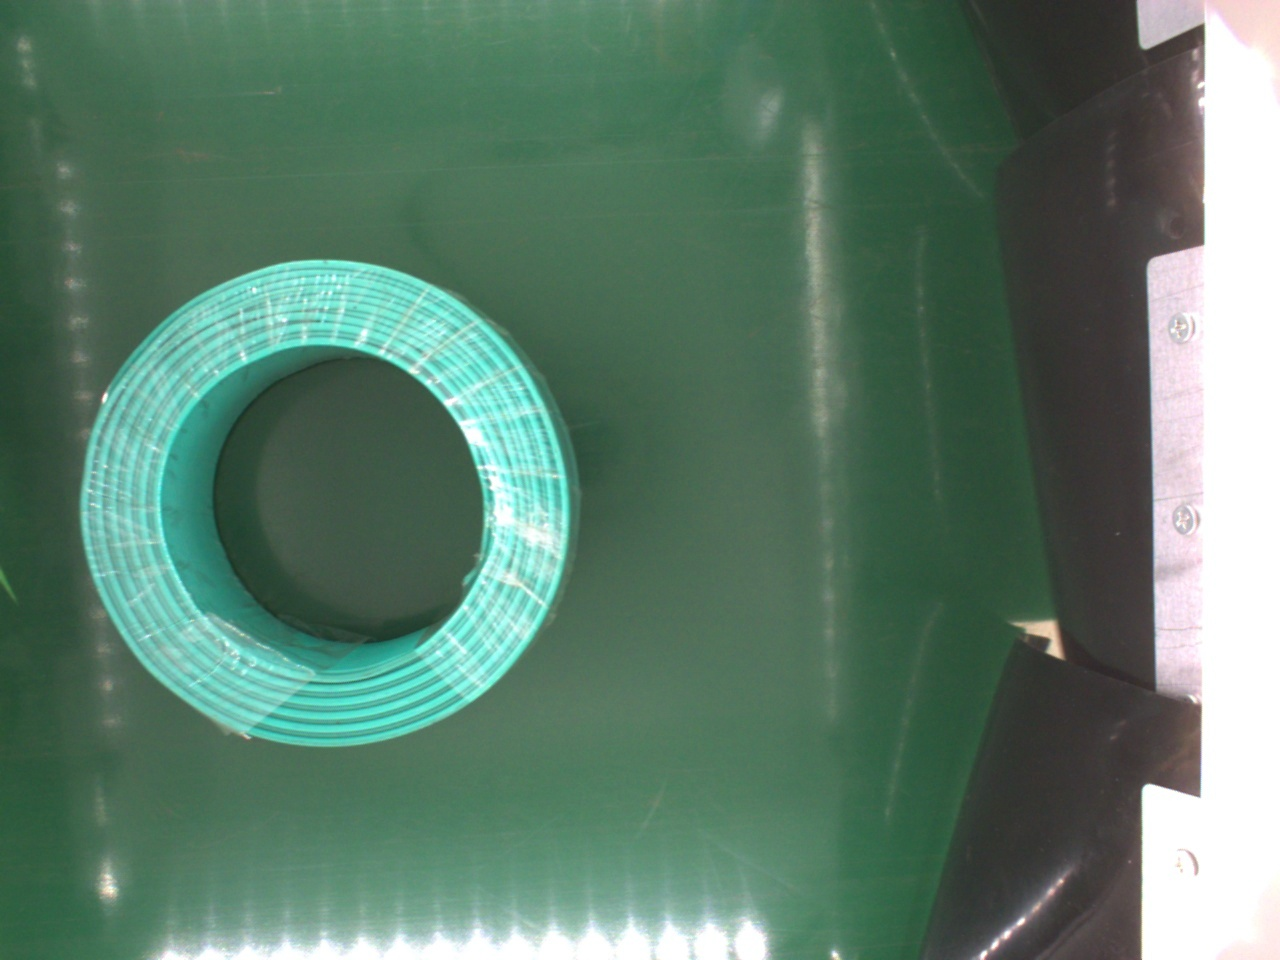green: (68, 261, 572, 744)
